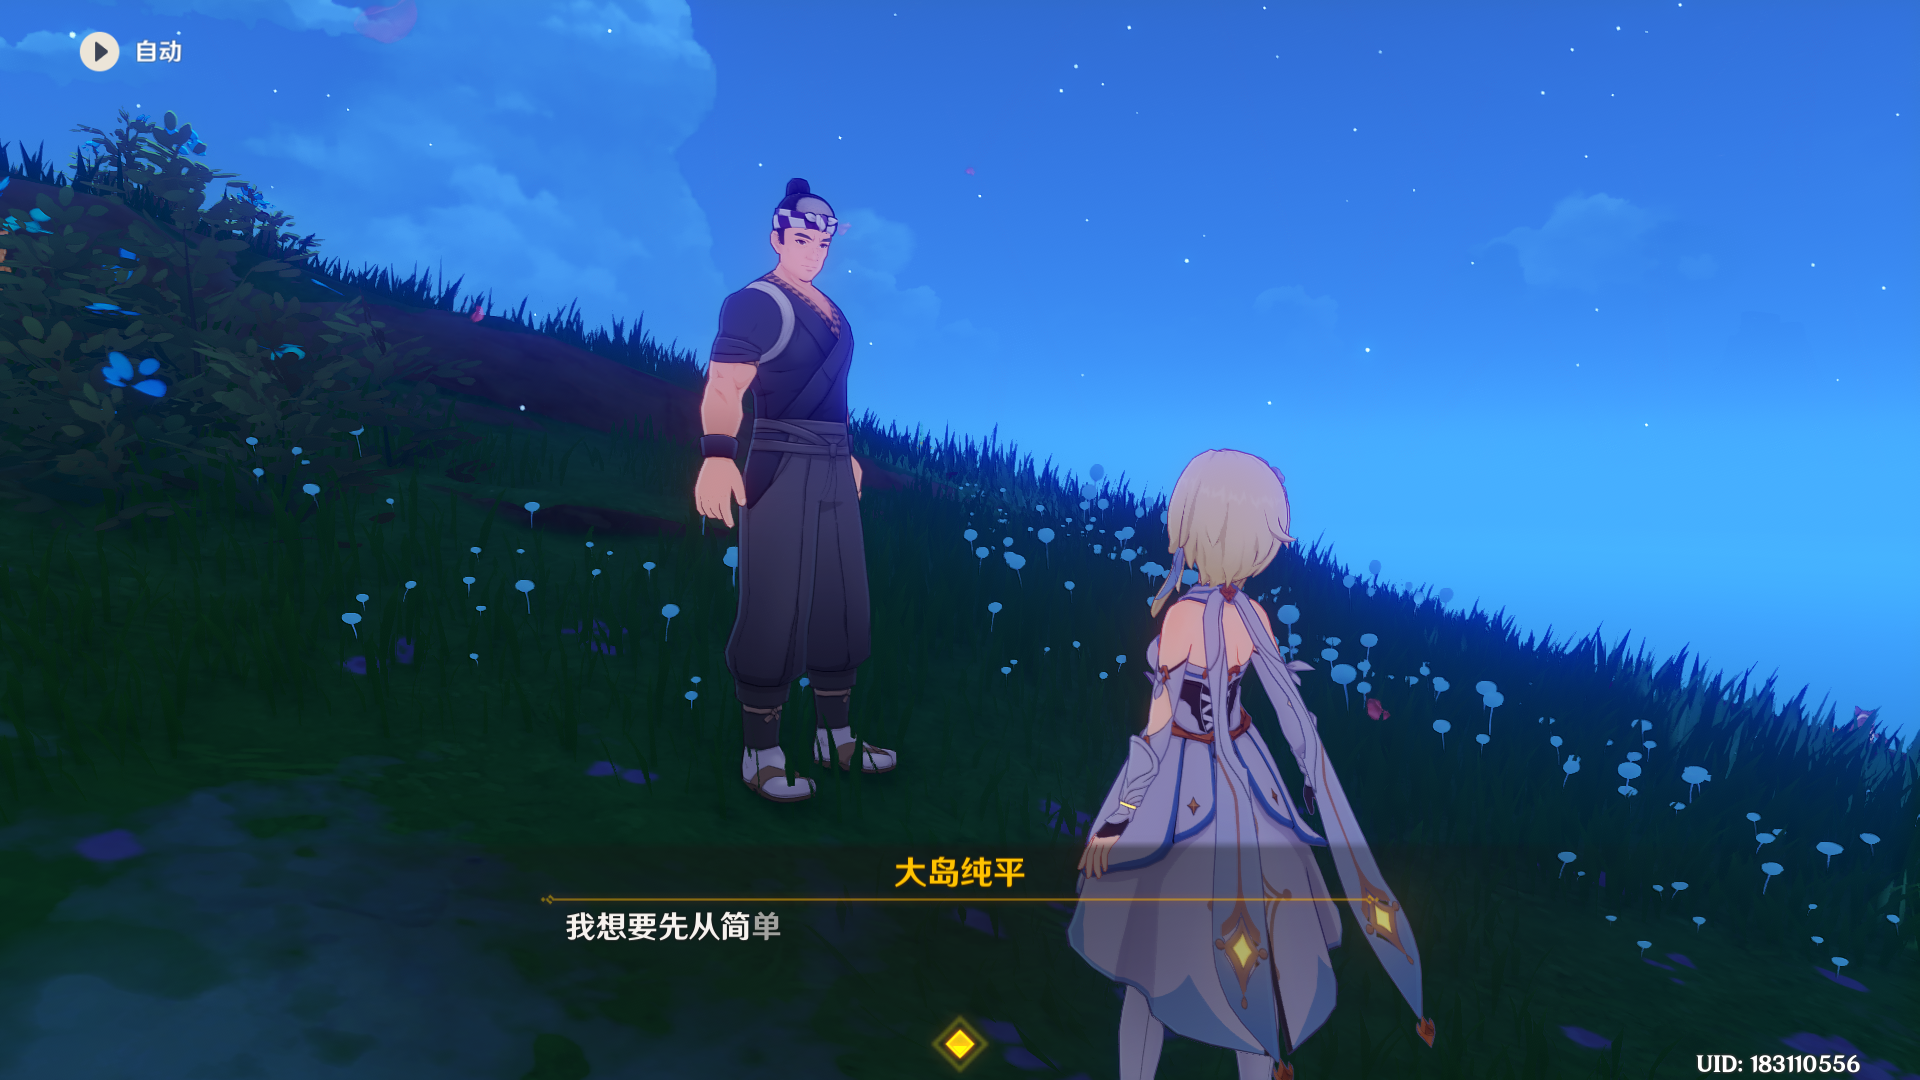character: (1055, 410, 1477, 1080)
